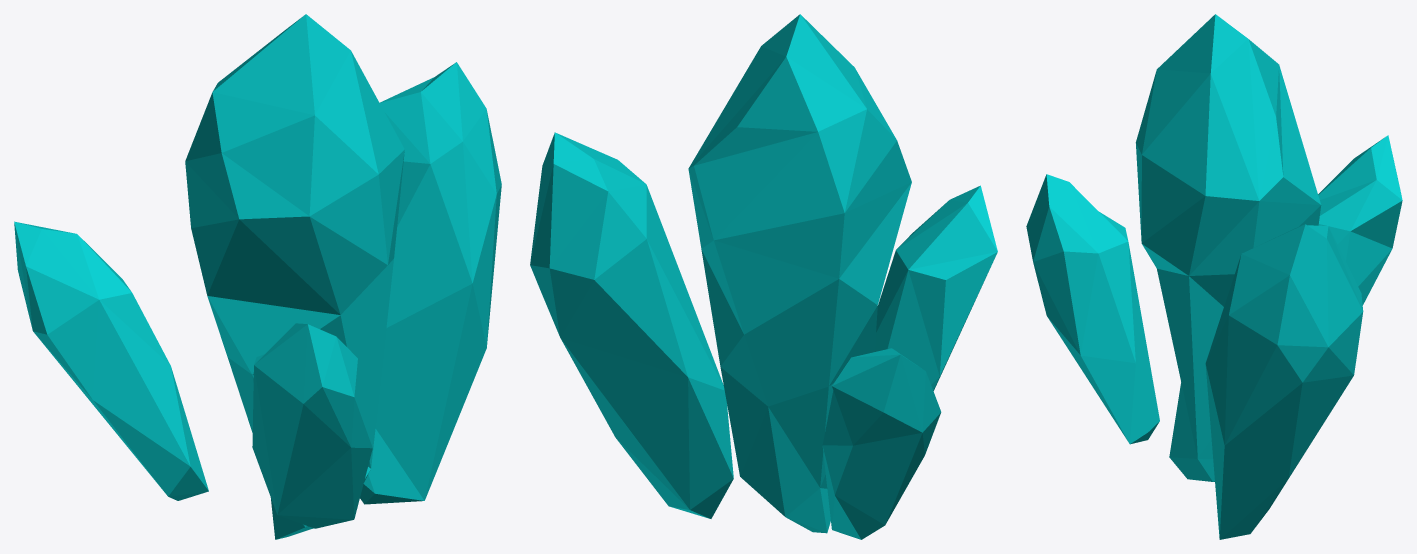
The model's file is Crystal1.fbx.
3 views of the same model, side by side, from view 1: azimuth 30°, elevation 25°; view 2: azimuth 150°, elevation 25°; view 3: azimuth 270°, elevation 25° (orthographic). The views are drawn at different scales.
Visible parts, largest first — view 1: Cube.006; view 2: Cube.006; view 3: Cube.006.
Part boxes in pixels (<box>): Cube.006: <box>14,14,501,539</box>; Cube.006: <box>530,14,997,539</box>; Cube.006: <box>1026,14,1402,539</box>.
Size of the model in its own units: 590 by 677 by 486.
